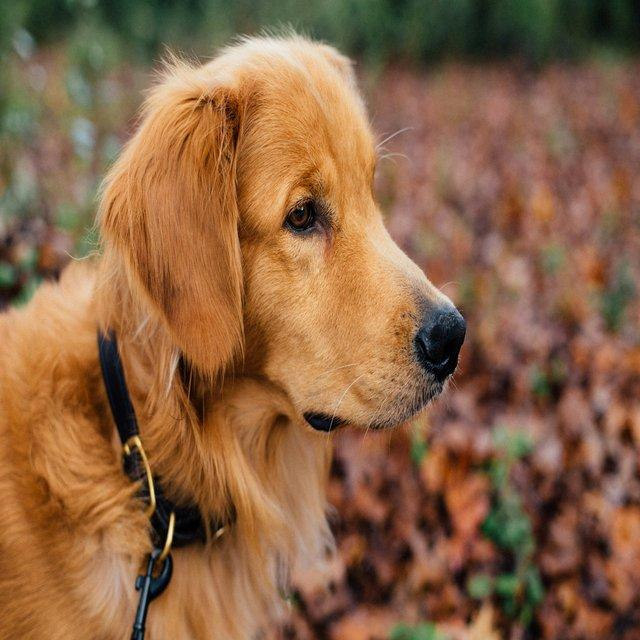retriever: (0, 25, 467, 638)
